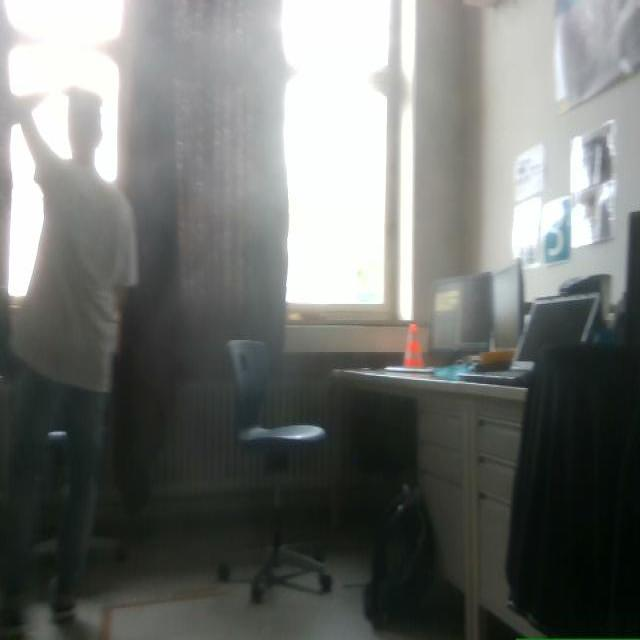humans: (0, 87, 137, 637)
objects: (506, 344, 639, 638), (227, 340, 331, 602), (385, 259, 523, 379), (459, 294, 599, 386), (428, 260, 523, 365), (364, 486, 434, 626), (429, 272, 491, 363), (613, 211, 639, 346), (614, 211, 639, 346), (492, 259, 524, 350), (558, 274, 611, 319), (623, 211, 639, 346), (470, 348, 514, 371), (403, 323, 424, 368), (612, 294, 627, 343), (434, 363, 471, 381), (384, 366, 433, 374)
